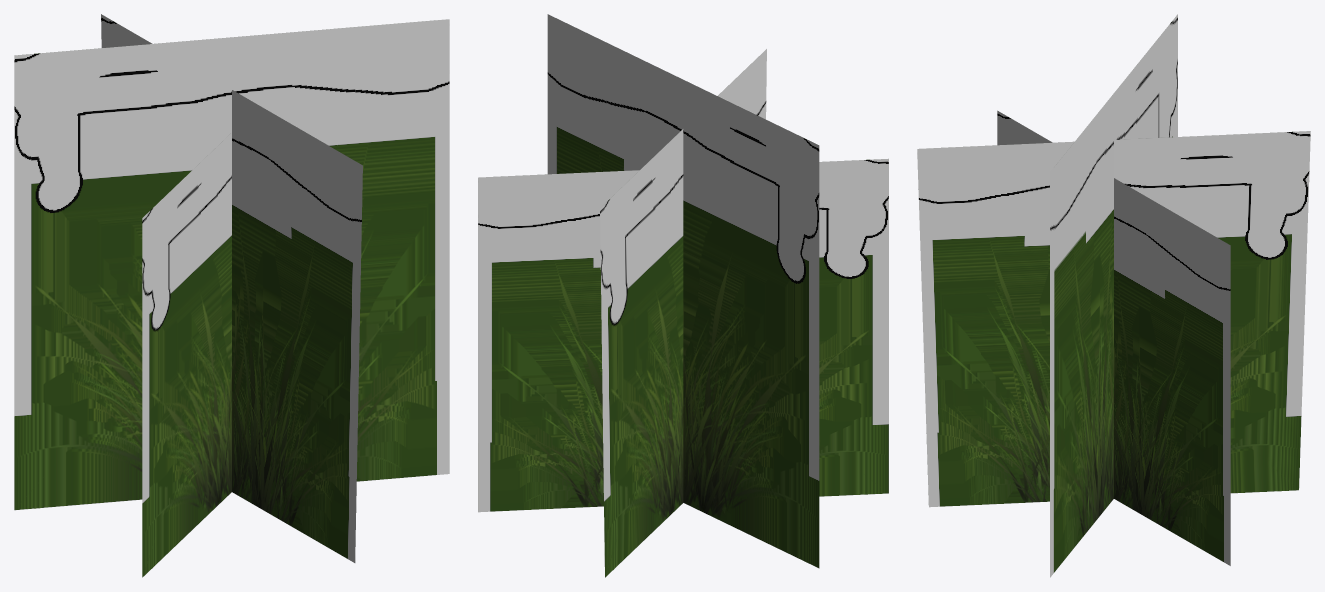
Rendered from grass.glb.
3 views of the same model, side by side, from view 1: azimuth 30°, elevation 25°; view 2: azimuth 150°, elevation 25°; view 3: azimuth 270°, elevation 25° (orthographic). The views are drawn at different scales.
Visible parts, largest first — view 1: free grass; view 2: free grass; view 3: free grass.
Part boxes in pixels (left/top/right/bottom): free grass: left=14, top=14, right=449, bottom=577; free grass: left=478, top=14, right=888, bottom=577; free grass: left=917, top=14, right=1310, bottom=577.
Size of the model in its own units: 3.62 by 4.32 by 3.8.
Materials: 1 (1 with a texture image).
